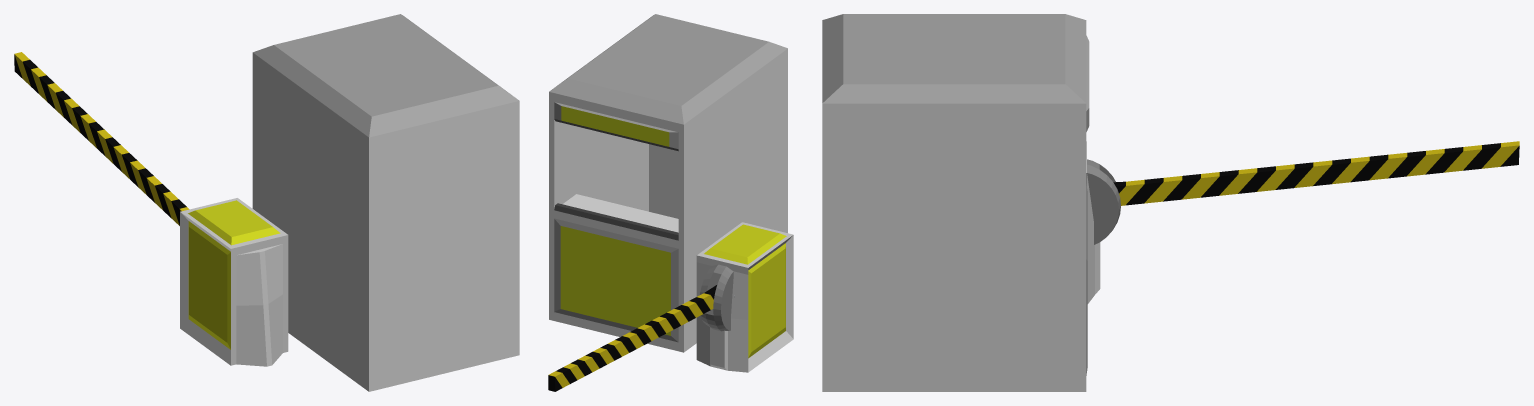
File: toll-booth.fbx
3 renders of one model, left to right at view 1: azimuth 30°, elevation 25°; view 2: azimuth 150°, elevation 25°; view 3: azimuth 270°, elevation 25°, orthographic. The views are drawn at different scales.
Visible parts, largest first — view 1: Cubo, Cube, Cilindro.001; view 2: Cubo, Cube, Cilindro.001, Cilindro; view 3: Cubo, Cilindro.001, Cilindro, Cube.
Part boxes in pixels (box(x1,y1,x2,y2)): Cubo: box(252, 14, 519, 391); Cube: box(180, 198, 288, 366); Cilindro.001: box(14, 52, 189, 225); Cubo: box(549, 14, 787, 352); Cube: box(696, 222, 793, 372); Cilindro.001: box(548, 285, 734, 391); Cilindro: box(700, 264, 733, 331); Cubo: box(822, 14, 1089, 391); Cilindro.001: box(1113, 141, 1519, 205); Cilindro: box(1087, 159, 1120, 244); Cube: box(1086, 141, 1100, 303).
Size of the model in its own units: 221 by 256 by 528.
